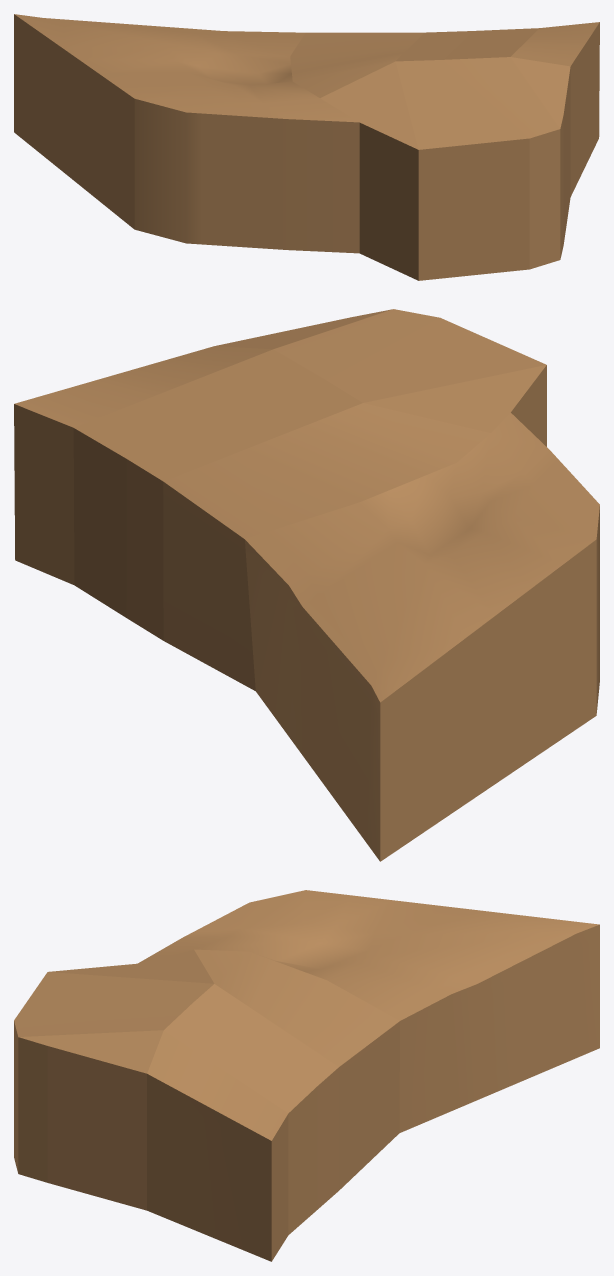
Rendered from terrain_W4A3.fbx.
The picture shows the model from 3 angles, top to bottom: view 1: azimuth 30°, elevation 25°; view 2: azimuth 150°, elevation 25°; view 3: azimuth 270°, elevation 25°; orthographic projection. The views are drawn at different scales.
Visible parts, largest first — view 1: W4A3_mesh; view 2: W4A3_mesh; view 3: W4A3_mesh.
Part boxes in pixels (box(x1,y1,x2,y2)): W4A3_mesh: box(14, 14, 599, 280); W4A3_mesh: box(14, 309, 599, 861); W4A3_mesh: box(14, 890, 599, 1261).
Size of the model in its own units: 18824 by 6319 by 20346.
